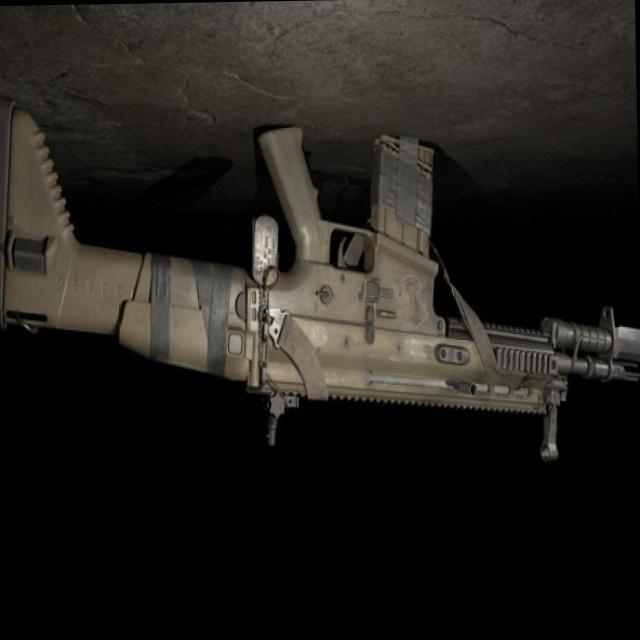Gun: (0, 99, 639, 517)
